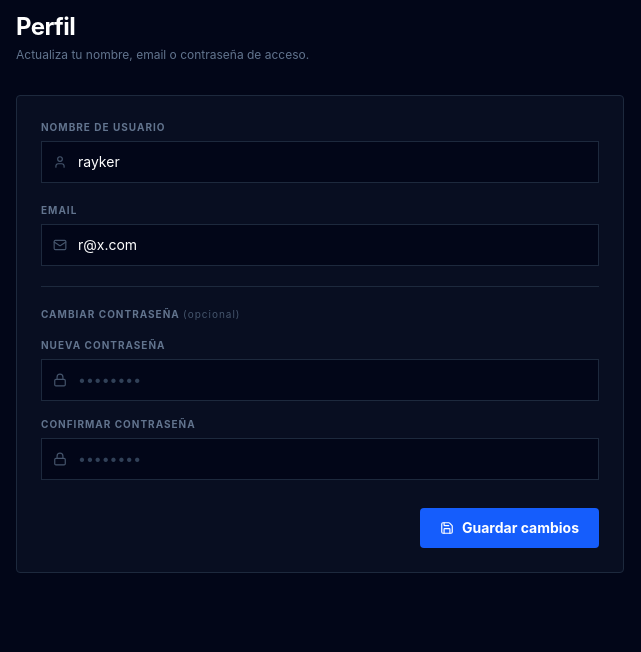
Test: ProfileSettings › submit con res.ok=false muestra el error del backend
expect the field showing "rayker" below "Nombre de usuario" is shown: met, box top-left (41, 141), bottom-right (599, 183)
Step 1. Click the button "Guardar cambios" → coordinates (510, 528), box top-left (420, 508), bottom-right (599, 548)
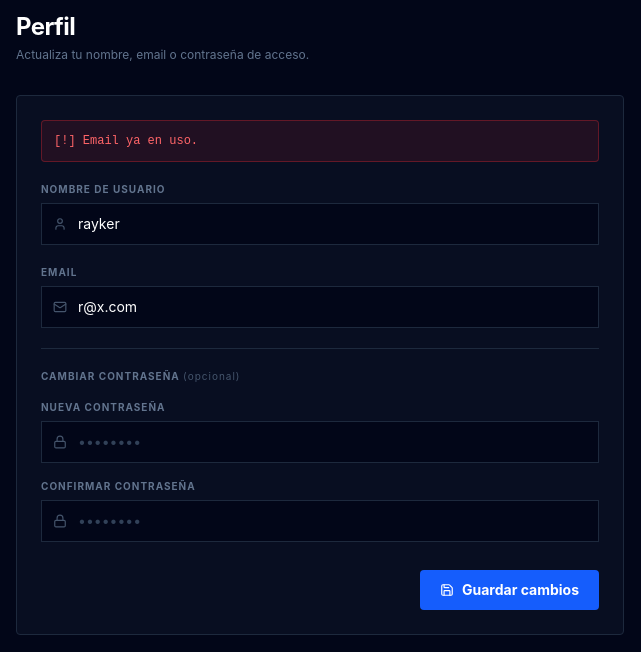
expect the text "[!] Email ya en uso." is shown: met, box top-left (41, 120), bottom-right (599, 162)
